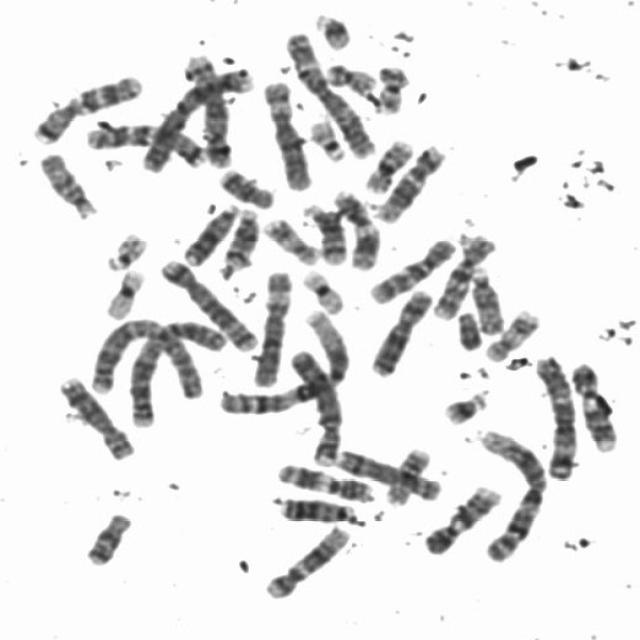A1: (216, 307, 353, 416), (472, 426, 549, 564)
A2: (123, 318, 228, 429), (84, 316, 214, 400)
A3: (282, 28, 376, 161), (531, 351, 577, 481)
B4: (137, 64, 255, 174), (284, 346, 344, 467)
B5: (157, 254, 260, 352), (179, 52, 234, 172)
C10: (364, 235, 457, 306), (429, 230, 497, 322)
C11: (274, 461, 376, 504), (329, 187, 381, 271)
C12: (260, 523, 352, 600), (370, 140, 448, 224)
C6: (260, 78, 313, 191), (249, 267, 293, 388)
C7: (27, 72, 145, 146), (84, 118, 208, 170)
C8: (54, 373, 136, 462), (331, 444, 440, 502)
C9: (419, 482, 505, 556), (568, 359, 619, 454)
D13: (179, 200, 242, 268), (275, 494, 363, 528)
D14: (299, 201, 347, 267), (220, 206, 261, 272)
D15: (36, 149, 100, 221), (467, 264, 505, 336)
E16: (359, 136, 416, 196), (381, 445, 432, 506)
E17: (480, 307, 540, 363), (259, 215, 320, 267)
E18: (80, 509, 134, 568), (216, 167, 274, 210)
F19: (100, 265, 148, 322), (299, 266, 346, 317)
F20: (364, 64, 412, 115), (322, 61, 377, 94)
G21: (438, 386, 490, 428), (312, 11, 353, 52)
G22: (305, 116, 347, 164), (103, 230, 150, 272)
X: (370, 286, 434, 381)
Y: (454, 308, 483, 351)
